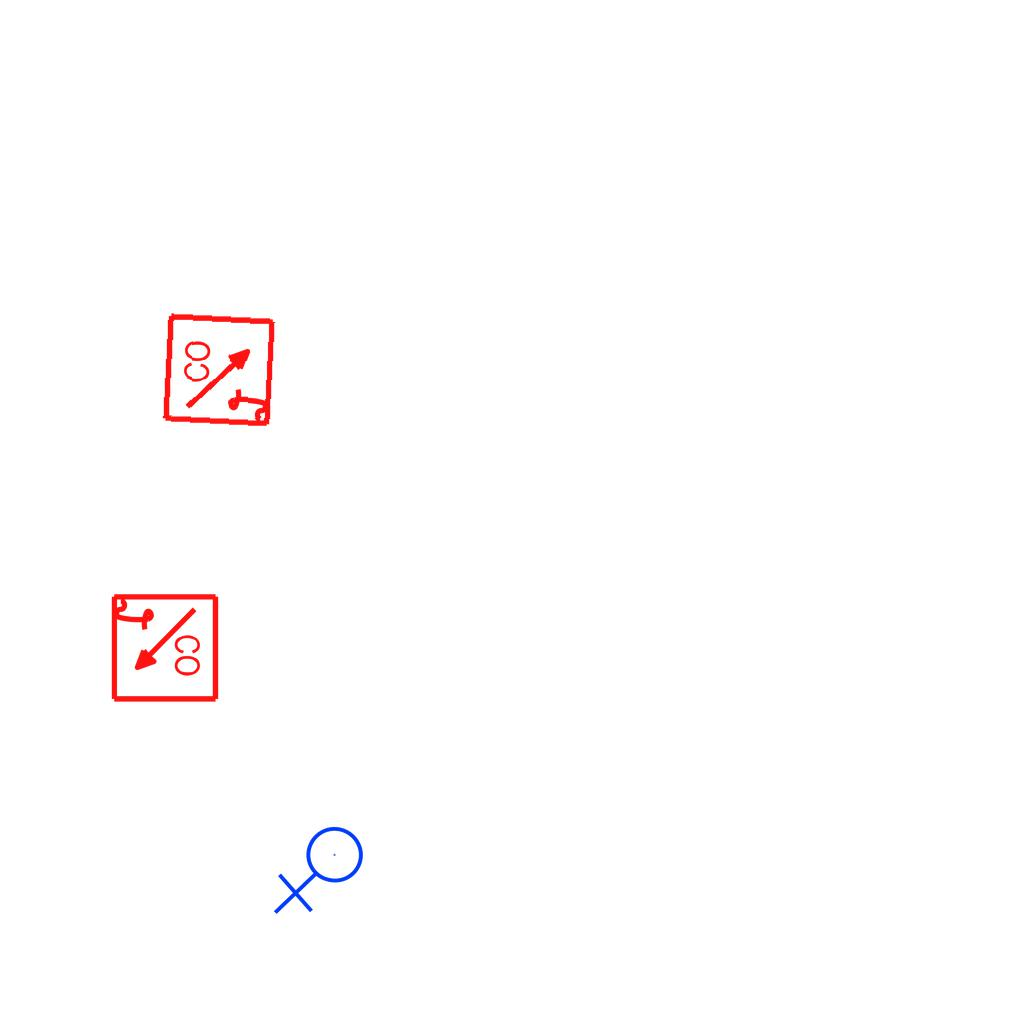Elektroanschluss_allgemein_230V_Geraeteanschlussdose_230V: (273, 825, 372, 919)
ROA_Rauchmelder_optisch_mit_Signalgeber_(Sockelsirene): (161, 310, 280, 429), (107, 592, 220, 705)
